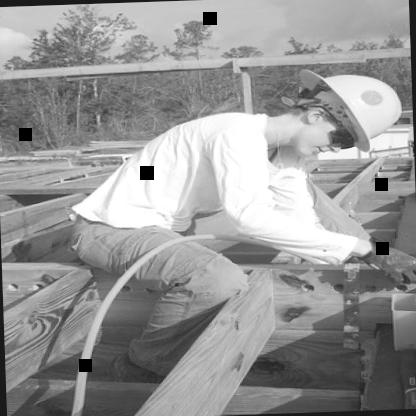helmet: (256, 56, 415, 172)
